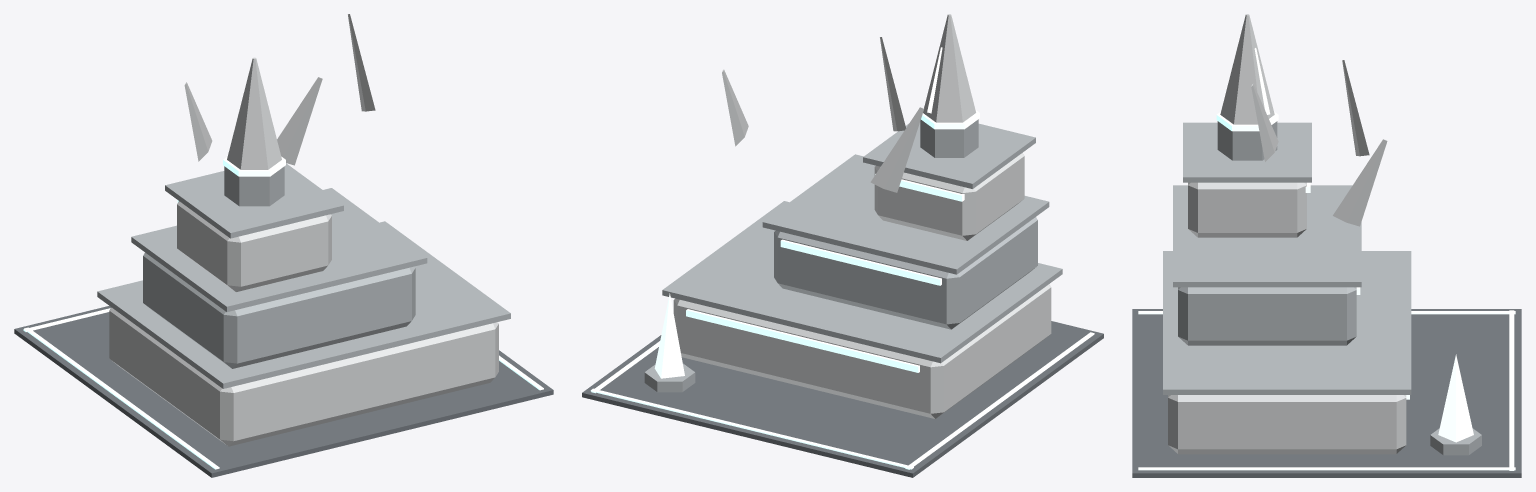
Rendered from zone_low_6.glb.
3 views of the same model, side by side, from view 1: azimuth 30°, elevation 25°; view 2: azimuth 150°, elevation 25°; view 3: azimuth 270°, elevation 25° (orthographic). The views are drawn at different scales.
Visible parts, largest first — view 1: zone_low_6, detail; view 2: zone_low_6, detail; view 3: zone_low_6, detail.
Boxes of the visible parts, x1,y1,x2,y2 form: zone_low_6: [14, 14, 553, 477]; detail: [23, 308, 543, 469]; zone_low_6: [582, 14, 1103, 477]; detail: [590, 332, 1094, 469]; zone_low_6: [1132, 14, 1521, 477]; detail: [1138, 310, 1515, 470].
Bounding box in the file's own units: 19.6 × 19.3 × 19.6.
